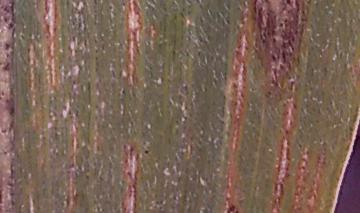tarspot: (225, 203, 242, 213), (142, 147, 151, 158)
